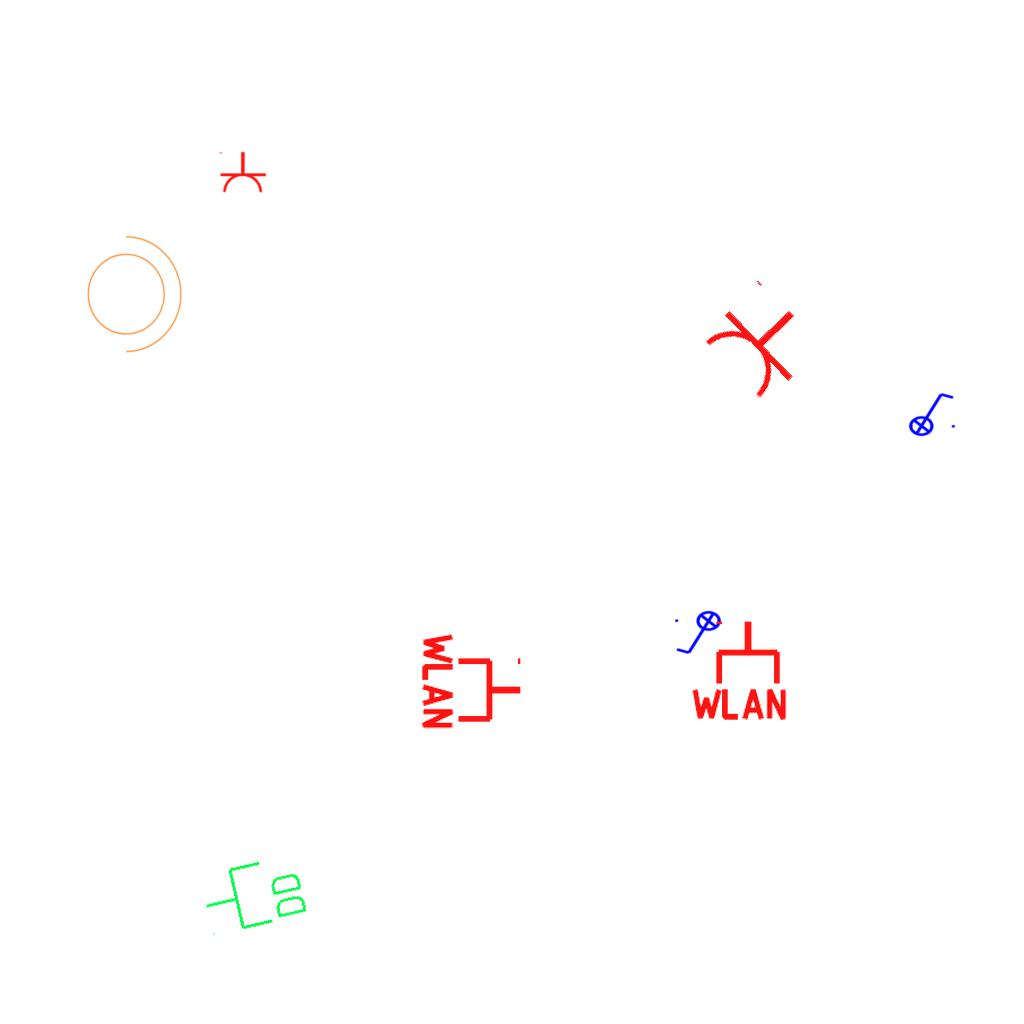Ausschalter_beleuchtet: (672, 610, 728, 658), (902, 389, 958, 437)
Datenanschluss_zweifach: (196, 850, 313, 941)
Scheinwerfer_fuer_Alarmbeleuchtung: (75, 225, 187, 357)
Schukosteckdose_einfach: (694, 274, 827, 408), (217, 151, 267, 194)
WLAN: (420, 629, 525, 733), (687, 617, 791, 722)
